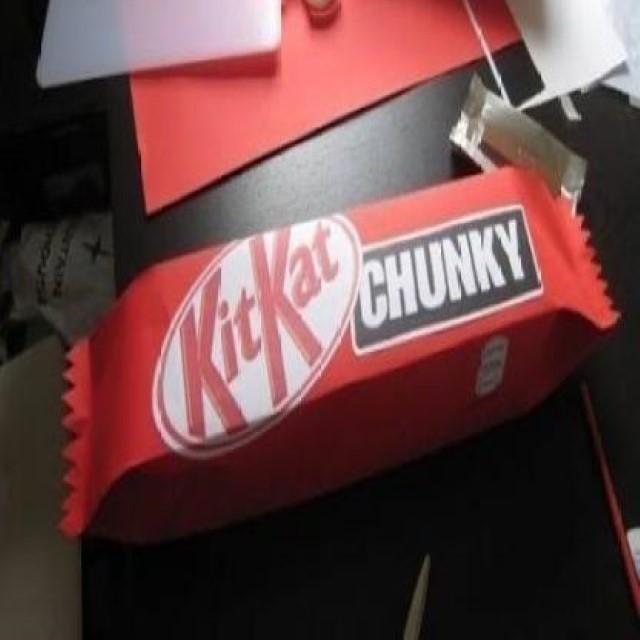kitkat_chocolate: (100, 195, 567, 482)
